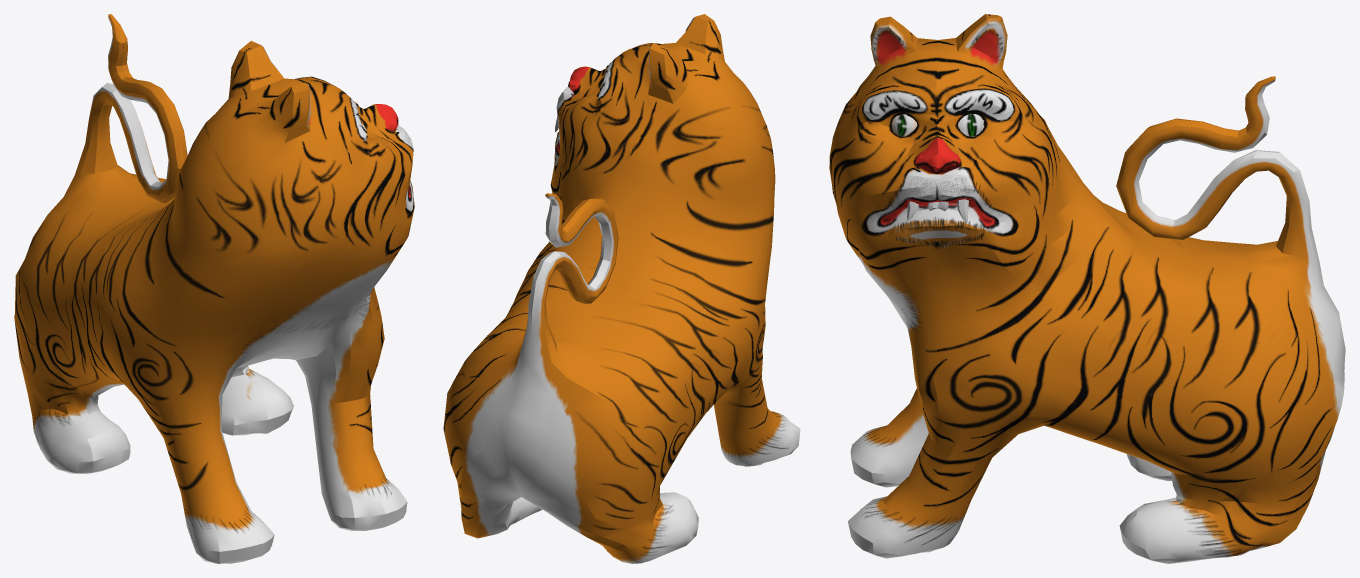
The model's file is huyeh_low.fbx.
3 renders of one model, left to right at view 1: azimuth 30°, elevation 25°; view 2: azimuth 150°, elevation 25°; view 3: azimuth 270°, elevation 25°, orthographic. The views are drawn at different scales.
Parts seen in each view (by area): view 1: _polySurface22; view 2: _polySurface22; view 3: _polySurface22.
Part boxes in pixels (box(x1,y1,x2,y2)): _polySurface22: box(14, 14, 414, 563); _polySurface22: box(443, 14, 800, 563); _polySurface22: box(829, 14, 1345, 563).
Bounding box in the file's own units: 30.98 × 54.8 × 51.87.
